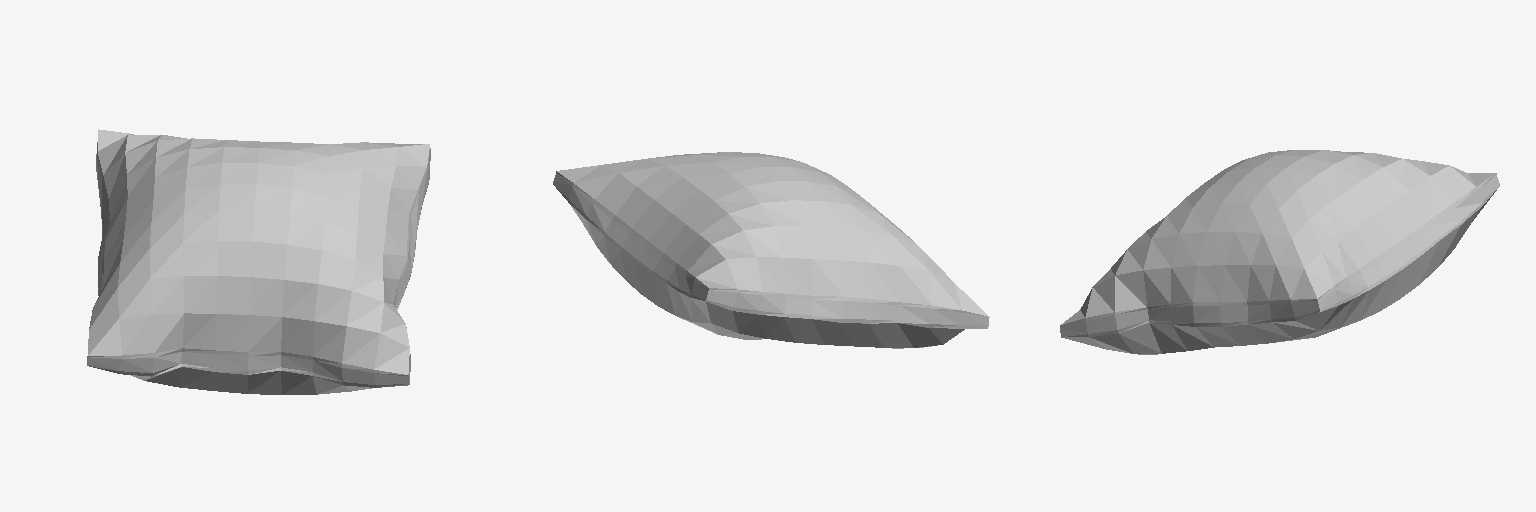
File: PillowA.obj
The picture shows the model from 3 angles: view 1: azimuth 30°, elevation 25°; view 2: azimuth 150°, elevation 25°; view 3: azimuth 270°, elevation 25°; orthographic projection.
Parts seen in each view (by area): view 1: pillow3 witch_tower; view 2: pillow3 witch_tower; view 3: pillow3 witch_tower.
Boxes of the visible parts, <box> form: pillow3 witch_tower: <box>87,129,430,394</box>; pillow3 witch_tower: <box>553,152,989,348</box>; pillow3 witch_tower: <box>1060,150,1499,354</box>.
Size of the model in its own units: 2.77 by 1.22 by 2.71.